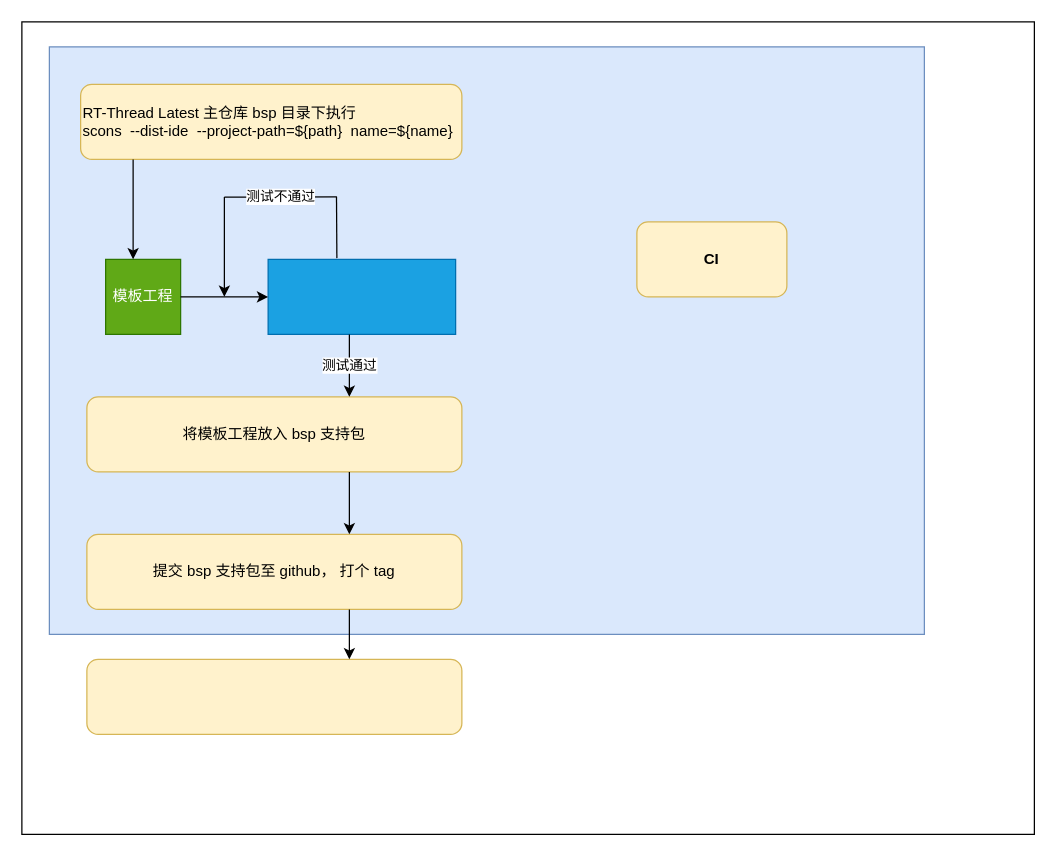
This 1056x856 diagram has some shape labels left out. Each missing label, with the box of its shape:
Studio 测试模板工程: (267, 258, 456, 334)
修改 index 并提交至 github: (86, 658, 462, 734)
